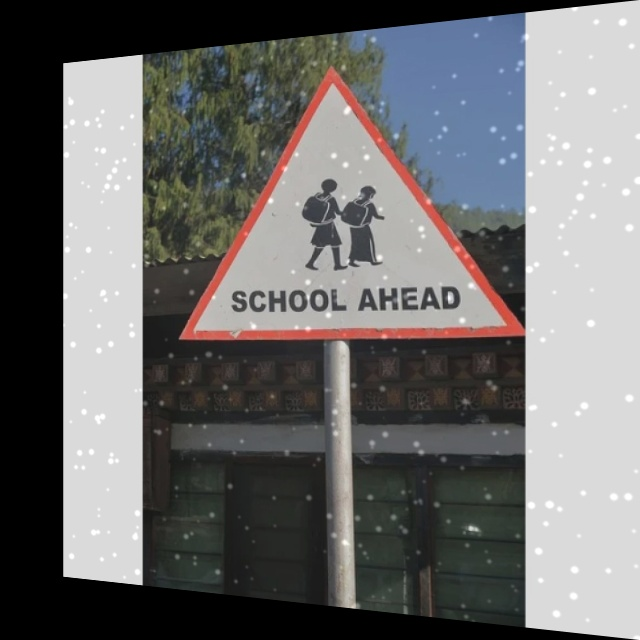School_Ahead: (200, 48, 515, 346)
